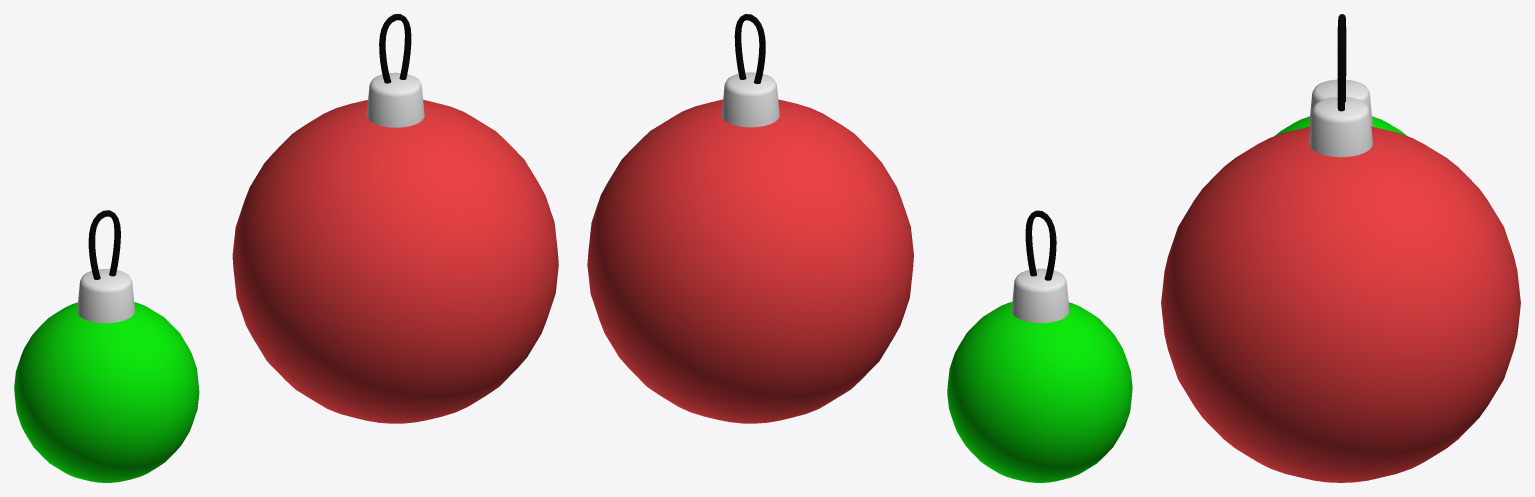
The model's file is Ornament_meshes.fbx.
3 views of the same model, side by side, from view 1: azimuth 30°, elevation 25°; view 2: azimuth 150°, elevation 25°; view 3: azimuth 270°, elevation 25° (orthographic). The views are drawn at different scales.
Visible parts, largest first — view 1: Big_Sphere, Small_Sphere, Big_Cap, Small_Cap, Small_Rope, Big_Rope; view 2: Big_Sphere, Small_Sphere, Big_Cap, Small_Cap, Small_Rope, Big_Rope; view 3: Big_Sphere, Big_Cap, Small_Cap, Big_Rope, Small_Sphere.
Boxes of the visible parts, x1,y1,x2,y2 form: Big_Sphere: (232, 99, 558, 423); Small_Sphere: (14, 302, 199, 482); Big_Cap: (366, 72, 424, 127); Small_Cap: (77, 269, 134, 323); Small_Rope: (88, 210, 120, 279); Big_Rope: (379, 14, 411, 83); Big_Sphere: (587, 99, 913, 423); Small_Sphere: (947, 302, 1132, 482); Big_Cap: (721, 72, 779, 127); Small_Cap: (1011, 268, 1069, 323); Small_Rope: (1025, 210, 1056, 280); Big_Rope: (734, 14, 765, 83); Big_Sphere: (1161, 126, 1520, 482); Big_Cap: (1309, 97, 1372, 157); Small_Cap: (1309, 79, 1372, 126); Big_Rope: (1337, 32, 1346, 111); Small_Sphere: (1275, 116, 1406, 135).
Size of the model in its own units: 3.61 by 2.66 by 2.
